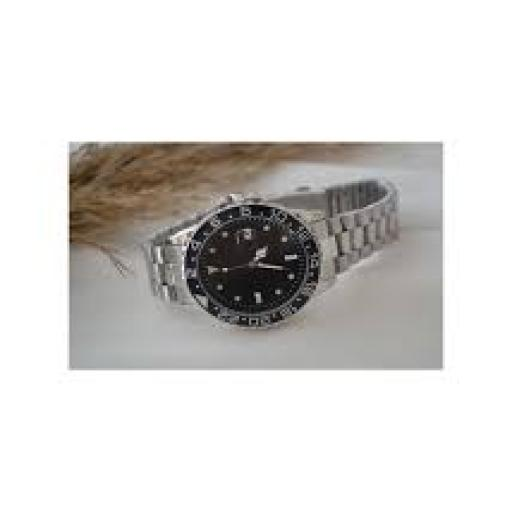KolSaati: (121, 168, 425, 348)
